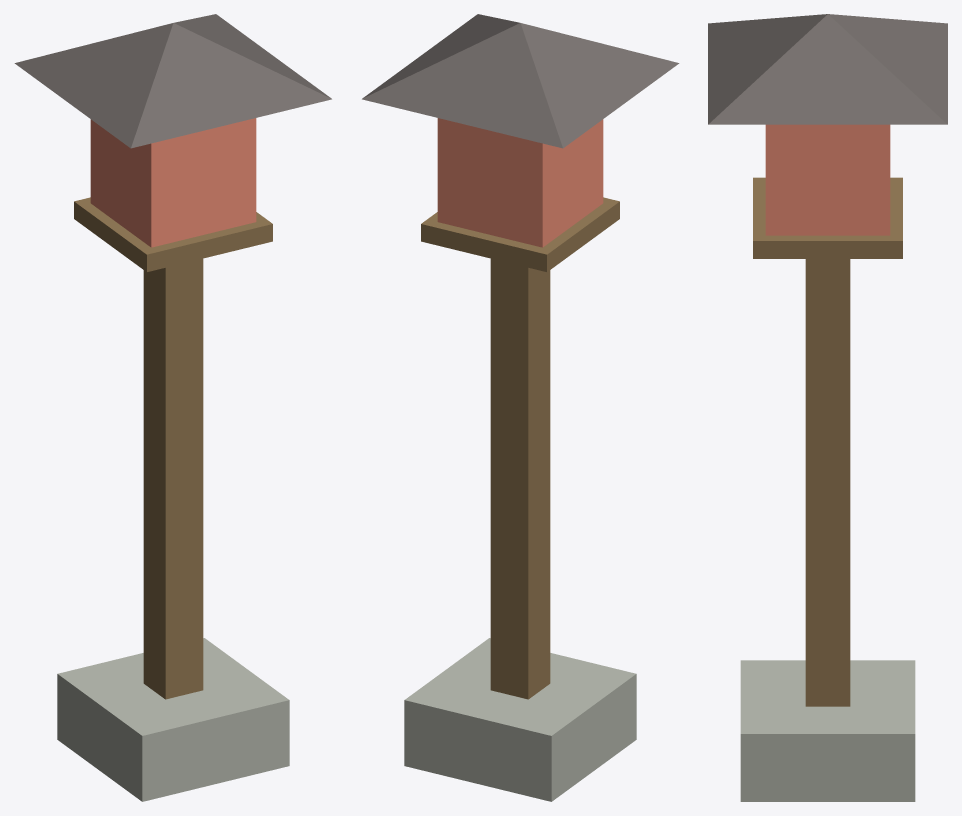
File: lamp_s2_02.glb
3 views of the same model, side by side, from view 1: azimuth 30°, elevation 25°; view 2: azimuth 150°, elevation 25°; view 3: azimuth 270°, elevation 25° (orthographic). The views are drawn at different scales.
Visible parts, largest first — view 1: part01, part02, part00, part03; view 2: part01, part02, part00, part03; view 3: part01, part00, part02, part03.
Part boxes in pixels (left/top/right/bottom): part01: left=74, top=197, right=272, bottom=699; part02: left=57, top=638, right=289, bottom=801; part00: left=14, top=14, right=331, bottom=148; part03: left=90, top=118, right=256, bottom=247; part01: left=421, top=197, right=619, bottom=699; part02: left=404, top=638, right=636, bottom=801; part00: left=362, top=14, right=679, bottom=148; part03: left=437, top=118, right=603, bottom=247; part01: left=753, top=177, right=902, bottom=706; part00: left=708, top=14, right=947, bottom=124; part02: left=740, top=660, right=915, bottom=801; part03: left=765, top=124, right=890, bottom=235.
Bounding box in the file's own units: 0.96 × 3.32 × 0.96.
